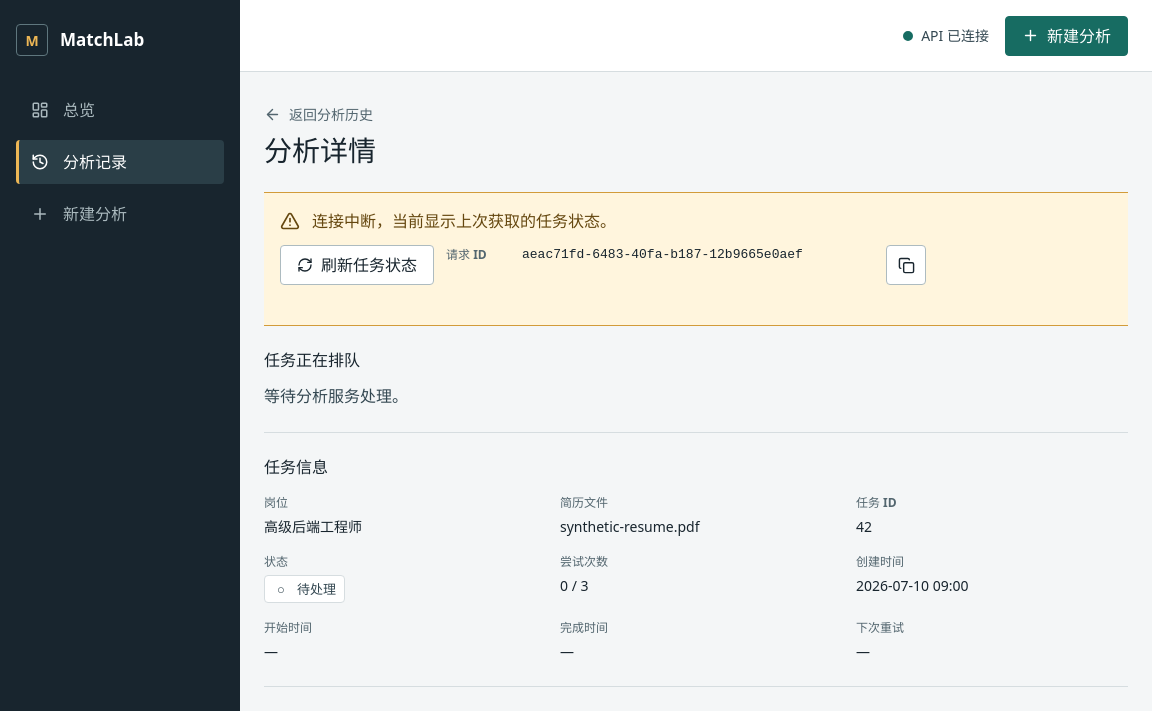
Test: keeps the last-known business status after a network failure and manually refreshes it
Expected: the text "连接中断，当前显示上次获取的任务状态。" is shown, [312, 209, 616, 233]
Expected: the text "待处理" is shown, [297, 580, 336, 598]
Click the button "刷新任务状态": [357, 265] box [280, 245, 434, 285]
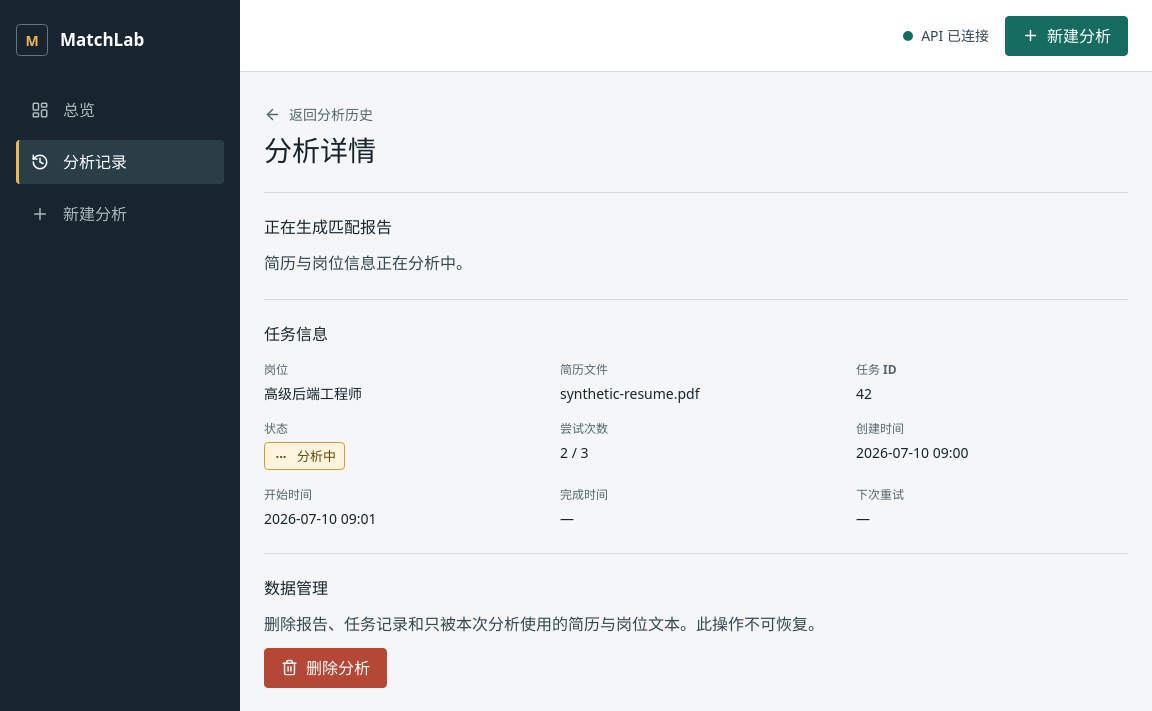
Now the text "分析中" is shown, box [297, 447, 336, 465]
Now the text "连接中断，当前显示上次获取的任务状态。" is gone
